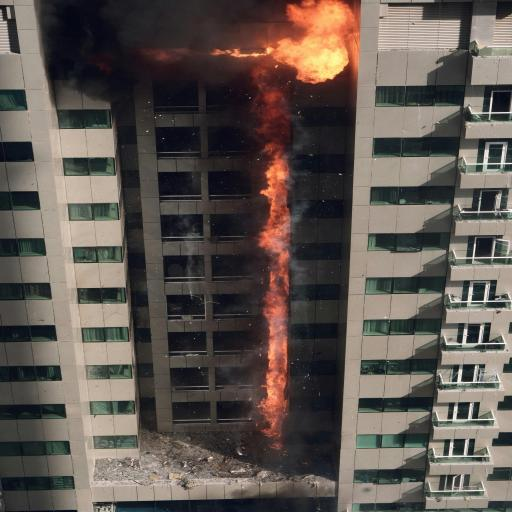buildingfire: (4, 0, 349, 473)
fire: (252, 65, 291, 448), (212, 0, 354, 84)
smoke: (38, 0, 298, 99)
